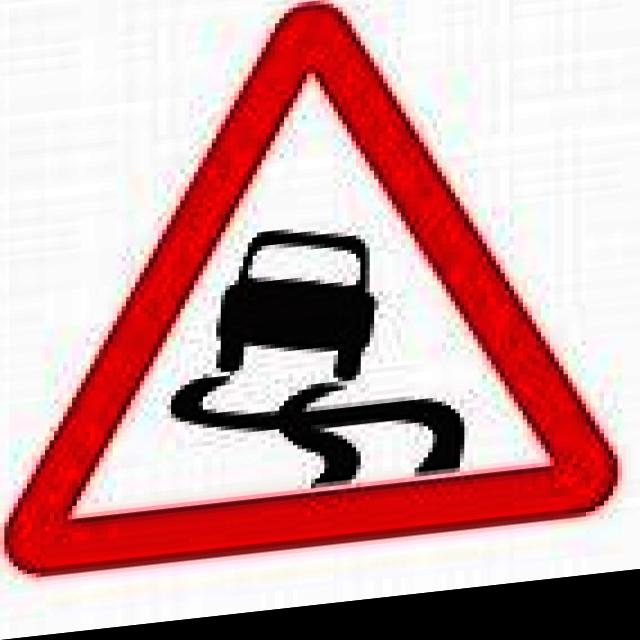SLIPPERY_ROAD: (5, 0, 622, 587)
